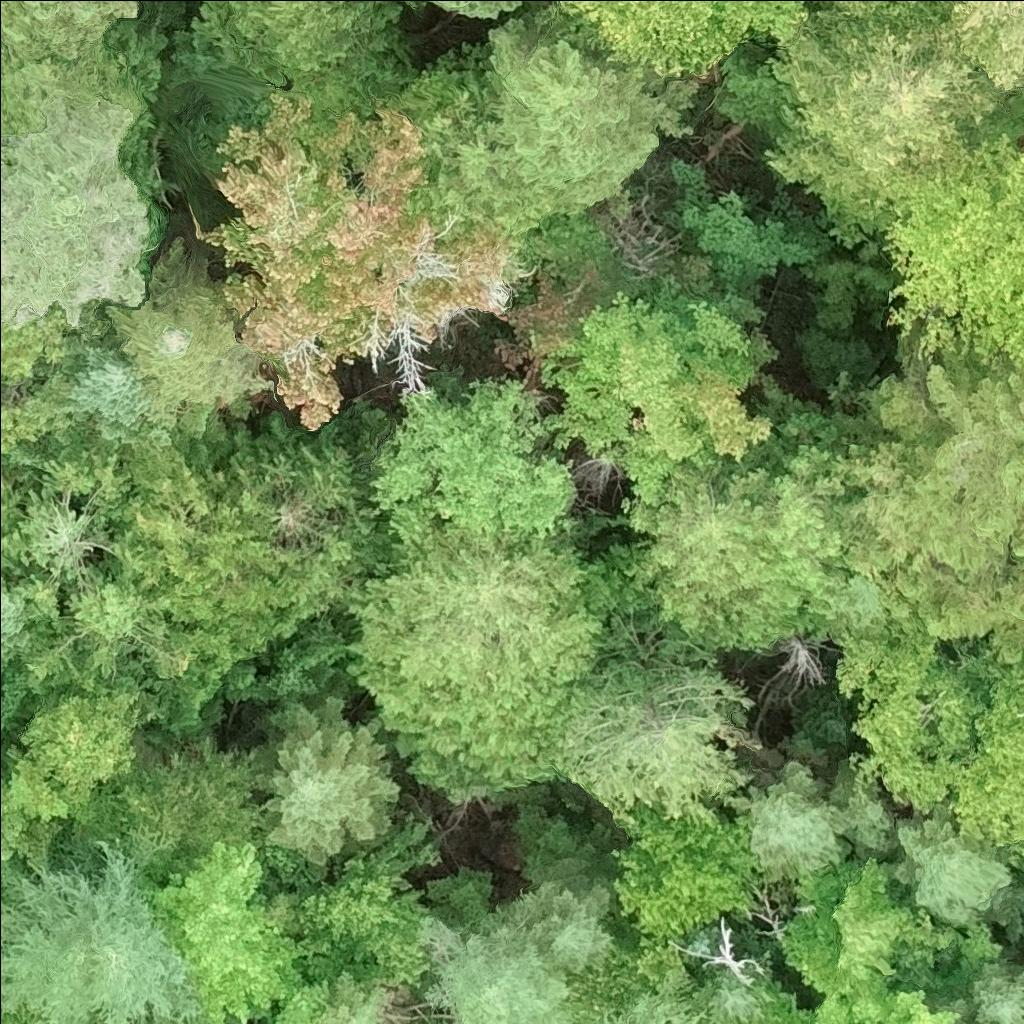crown: (0, 440, 370, 721), (216, 94, 519, 422), (353, 537, 622, 792), (778, 28, 1016, 244), (545, 279, 769, 501), (632, 464, 842, 653), (491, 24, 696, 214), (0, 844, 206, 1023), (903, 359, 1023, 655), (375, 377, 571, 558), (880, 135, 1023, 375), (797, 863, 1002, 1023), (150, 836, 317, 1023), (563, 663, 754, 825), (839, 602, 975, 814), (616, 807, 763, 980), (406, 85, 556, 247), (3, 685, 168, 824), (302, 814, 435, 980), (270, 697, 399, 867), (0, 26, 157, 163), (106, 286, 265, 420), (547, 0, 814, 77), (193, 0, 404, 95), (119, 739, 262, 862), (423, 922, 575, 1023), (949, 665, 1023, 861), (801, 454, 917, 576), (726, 761, 840, 878), (898, 823, 1018, 934), (0, 0, 140, 77), (811, 0, 958, 57), (74, 340, 149, 447), (929, 0, 1023, 84), (820, 780, 896, 853), (318, 969, 400, 1023), (0, 325, 59, 390), (597, 992, 706, 1023), (0, 570, 29, 670), (0, 777, 29, 863), (421, 0, 523, 18)
